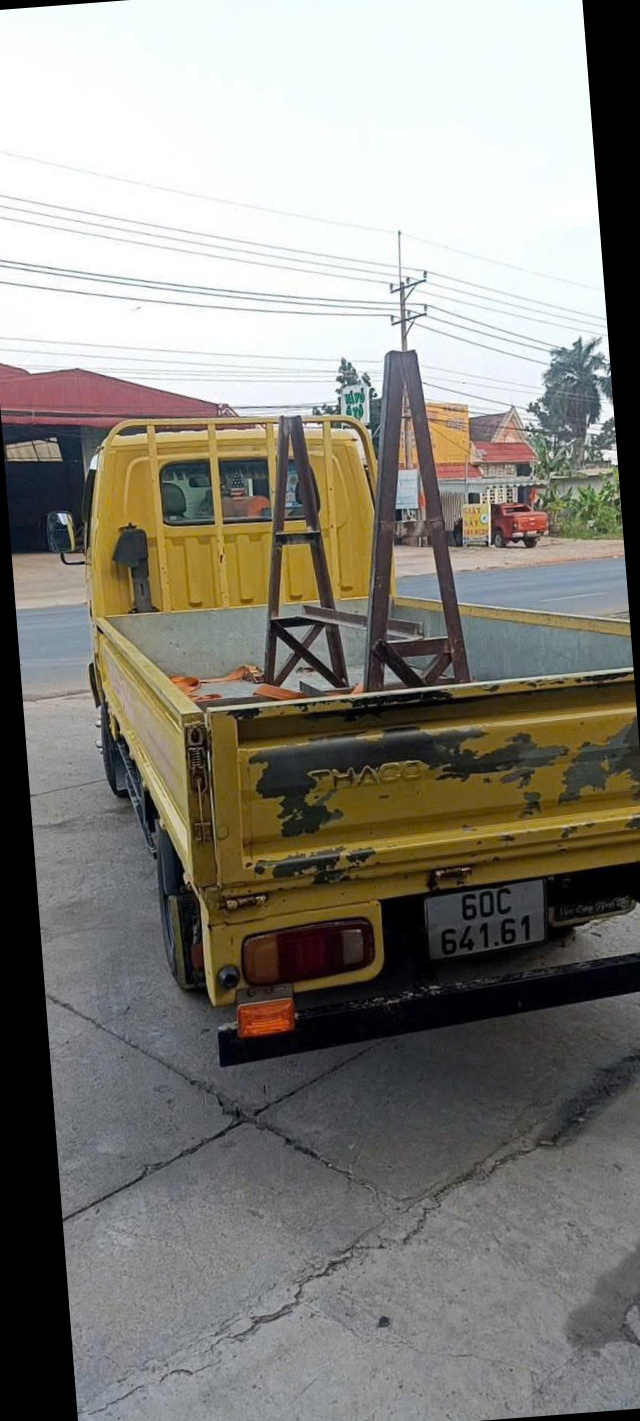Bien-so: (363, 882, 553, 986)
